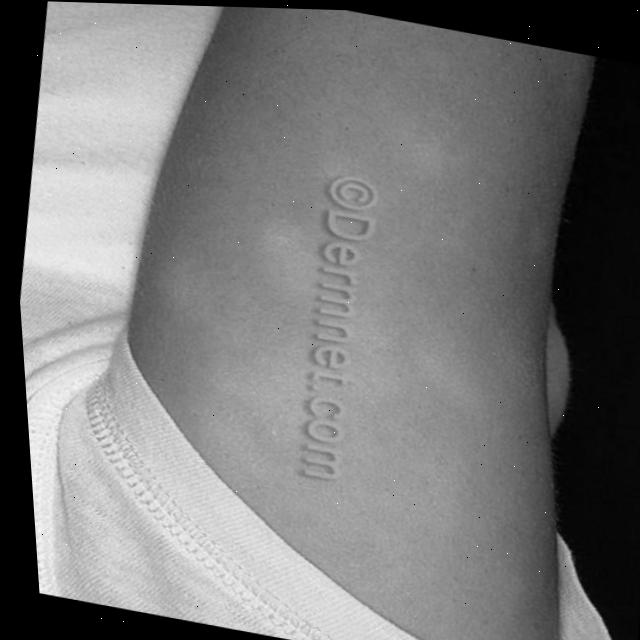Eczema: (234, 91, 495, 491)
